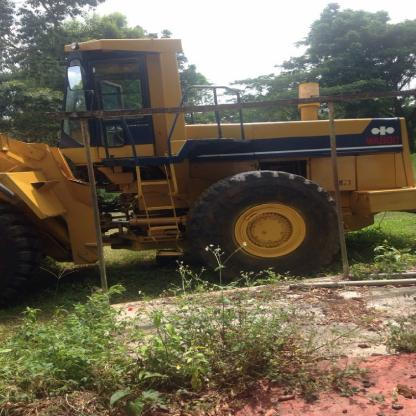bull_dozer/loader/grader: (0, 32, 416, 322)
